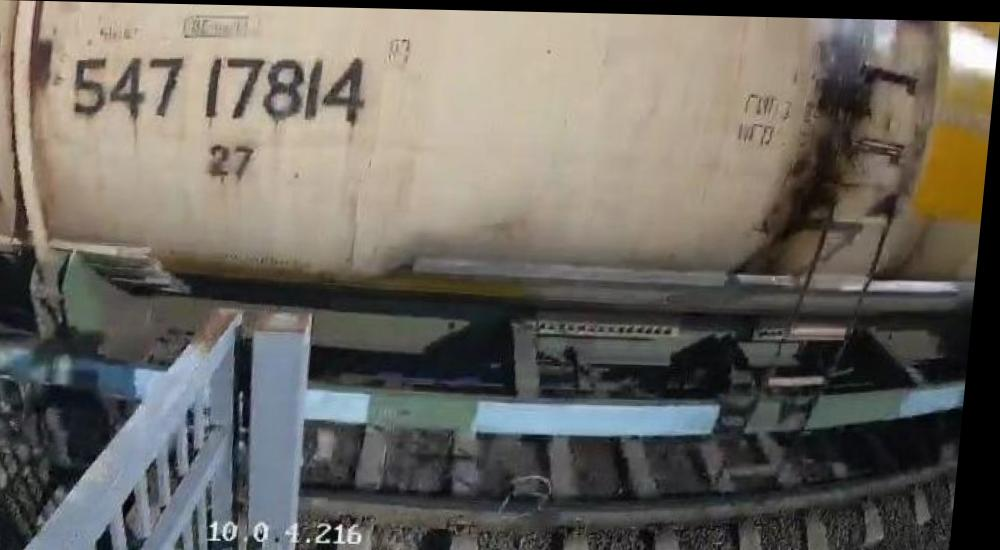Wagon-number: (65, 50, 374, 129)
